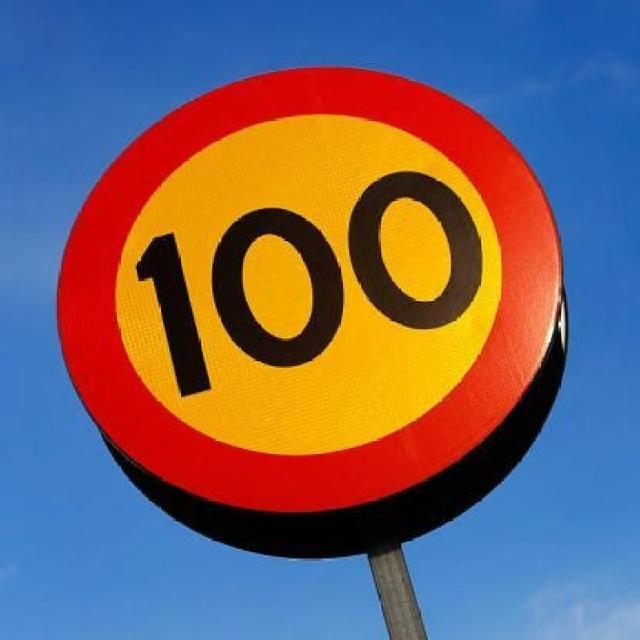forb_speed_over_100: (71, 69, 558, 478)
